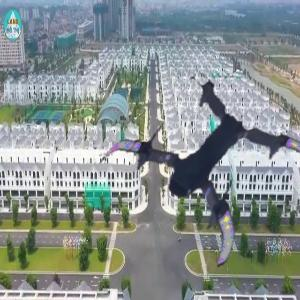drone: (105, 79, 291, 265)
